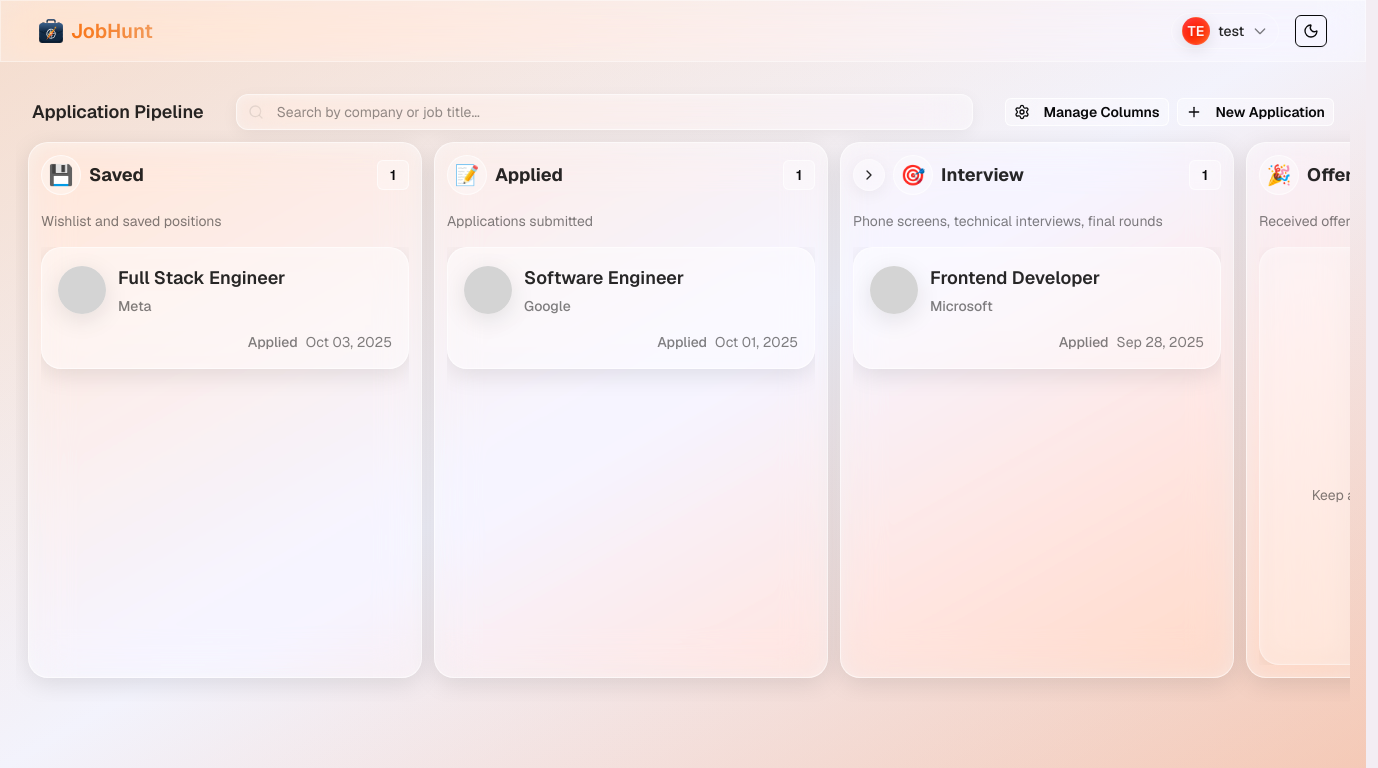
DashboardPage › Search and Filter › should filter applications by job title
Check: the heading "Software Engineer" is shown, box [524,266,684,289]
Type "frontend" into the field with placeholder "Search by company or job title..." at (604, 112), box [236,94,972,130]
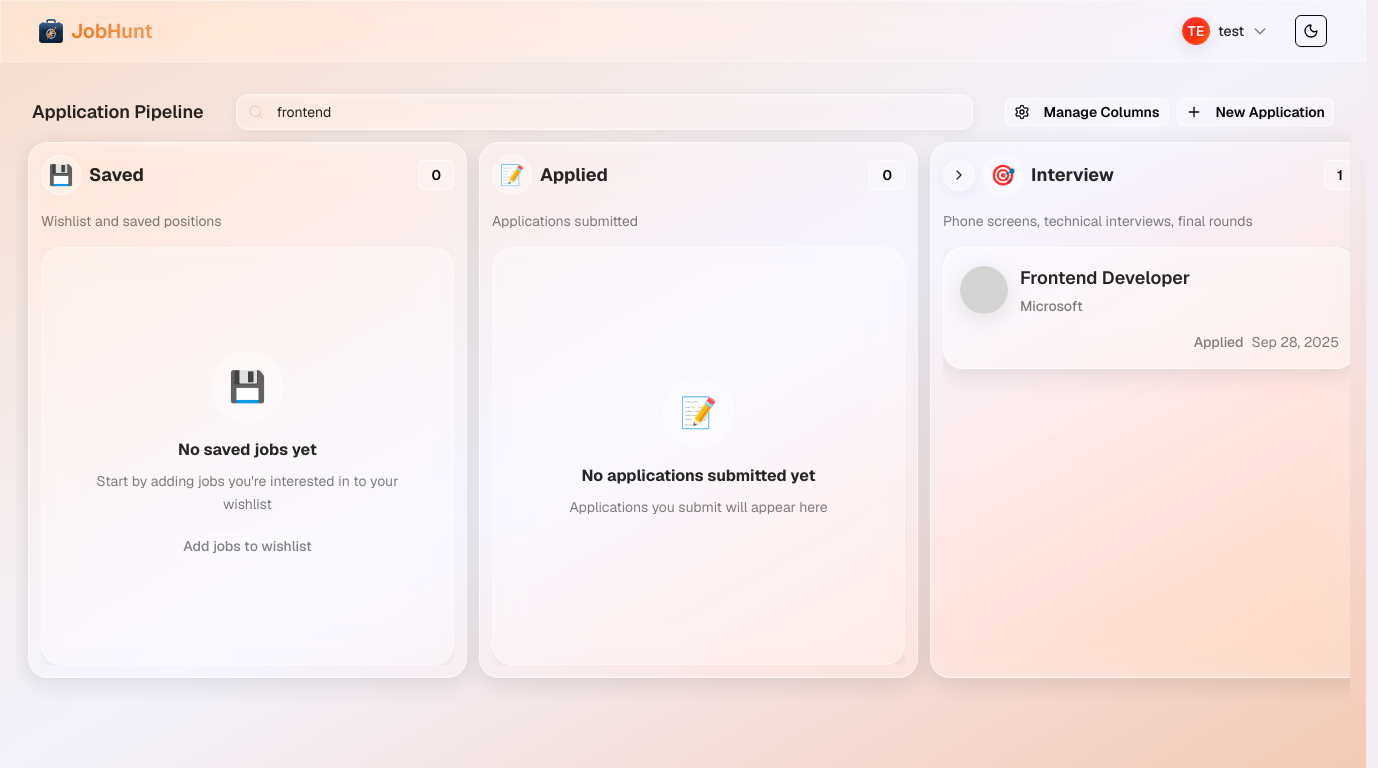
Check: the text "Microsoft" is shown, box [1020,297,1083,315]
Check: the button "Google" is gone
Check: the button "Meta" is gone
